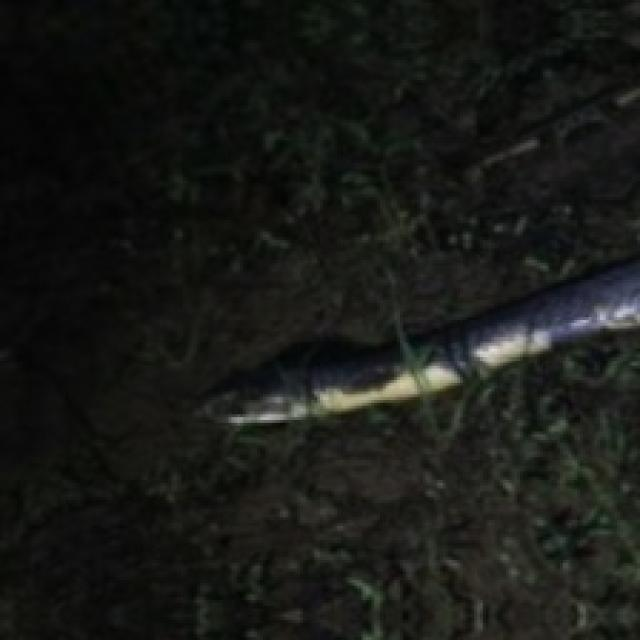king cobra: (203, 257, 637, 423)
